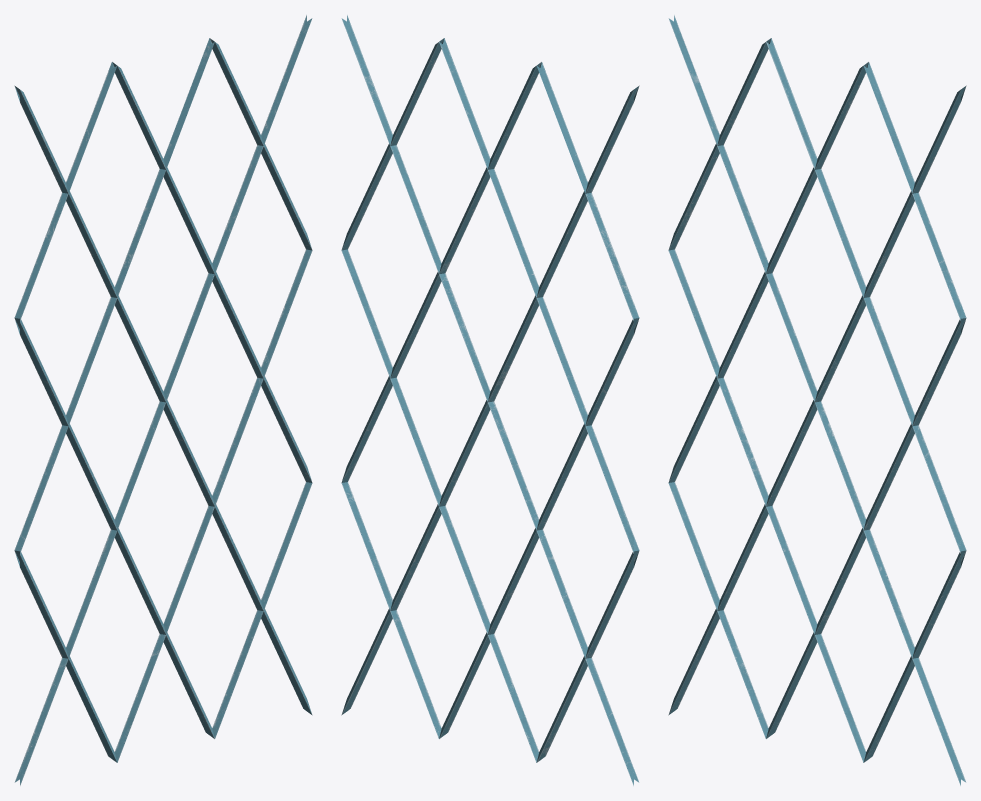
File: BCheckered_Blue.gltf
The picture shows the model from 3 angles, left to right: view 1: azimuth 30°, elevation 25°; view 2: azimuth 150°, elevation 25°; view 3: azimuth 330°, elevation 25°; orthographic projection.
Parts seen in each view (by area): view 1: Plane.010; view 2: Plane.010; view 3: Plane.010.
Boxes of the visible parts, x1,y1,x2,y2 form: Plane.010: [14, 15, 312, 785]; Plane.010: [341, 15, 639, 785]; Plane.010: [668, 15, 966, 785].
Bounding box in the file's own units: 3.01 × 6.85 × 0.0973.
1 material, 1 textured.
